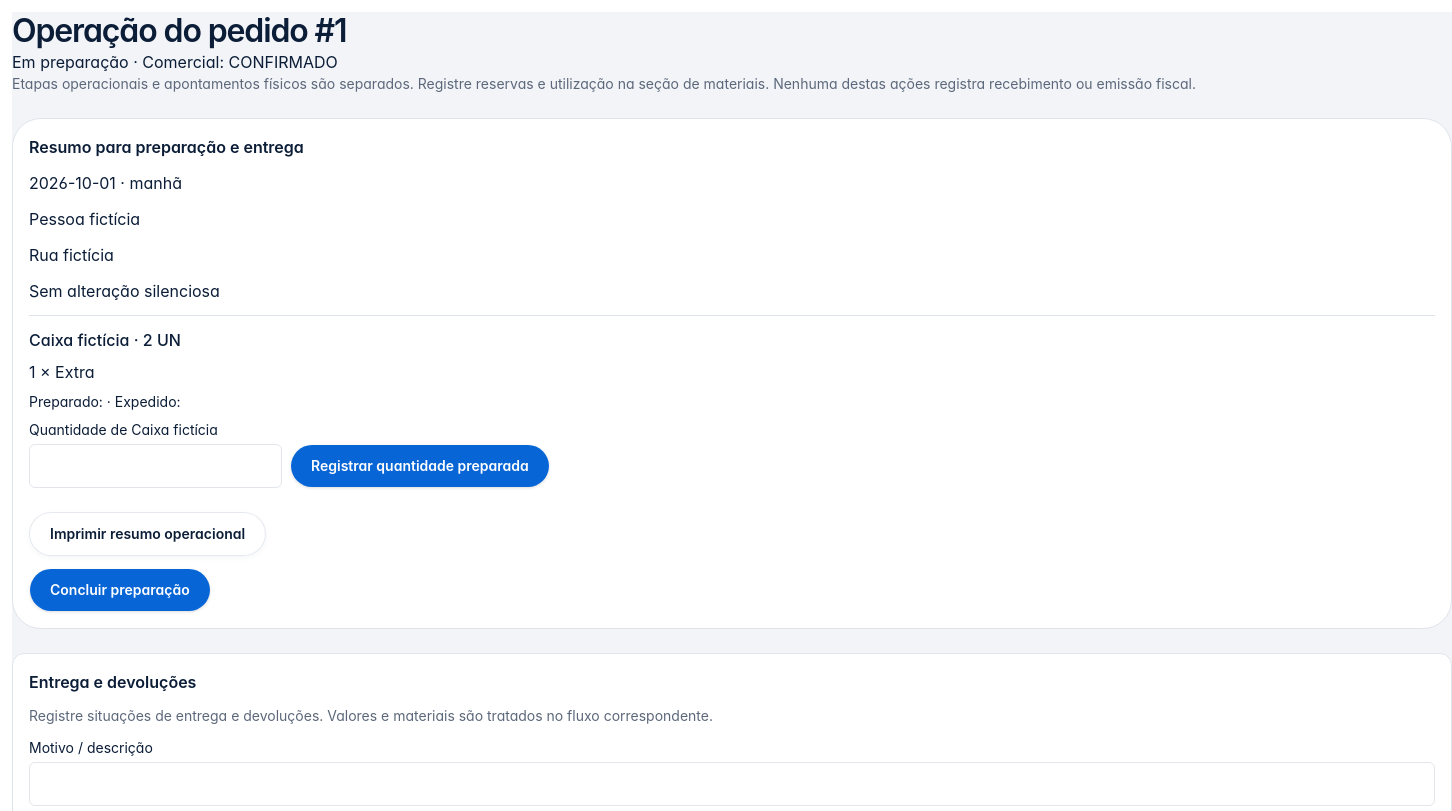
preserva quantidade digitada quando o servidor recusa e mantém controles inacessíveis sem permissão
In the field labelled "Quantidade de Caixa fictícia": (156, 466) [29,444,282,488], type "3"
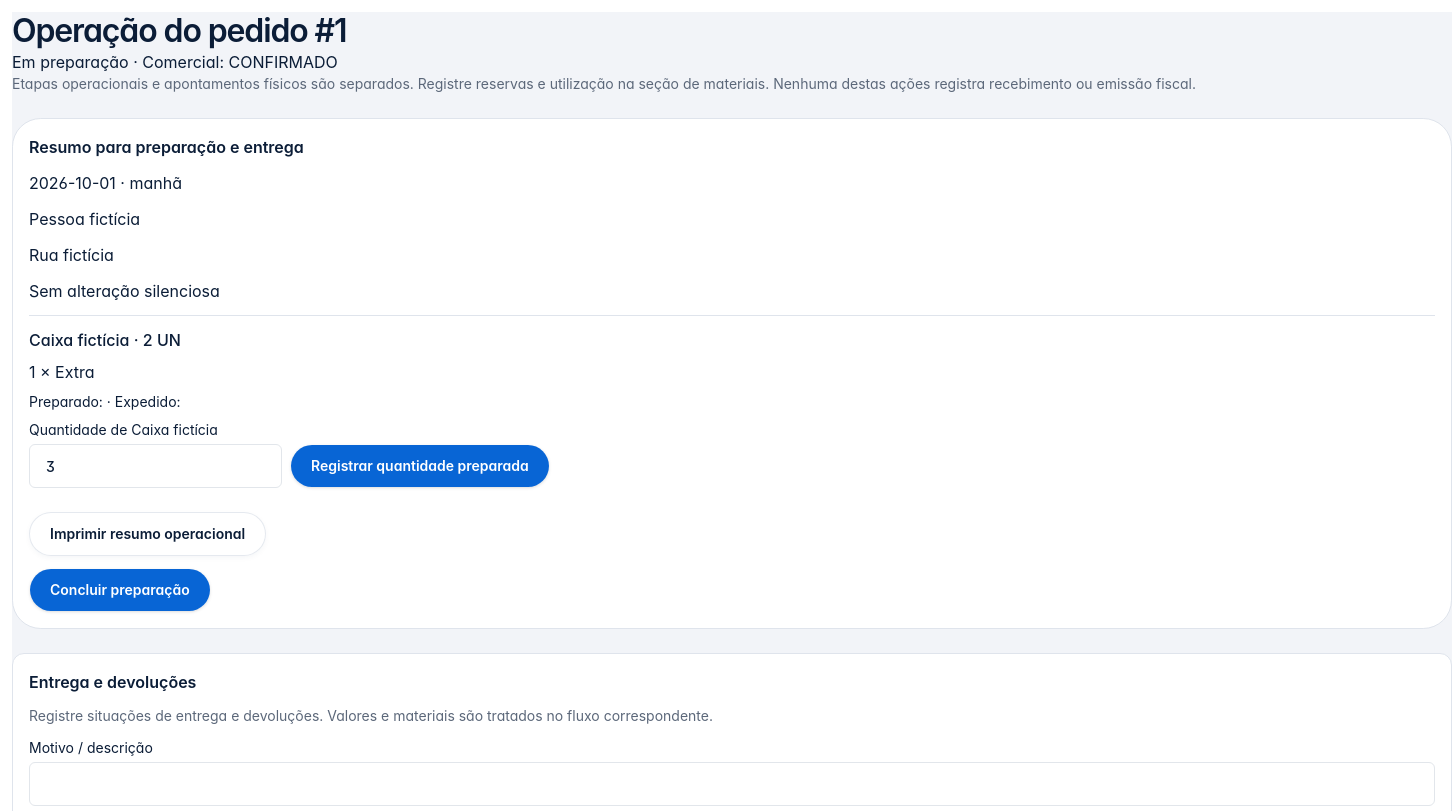
Click the button "Registrar quantidade preparada": click(420, 466) [290,444,550,488]
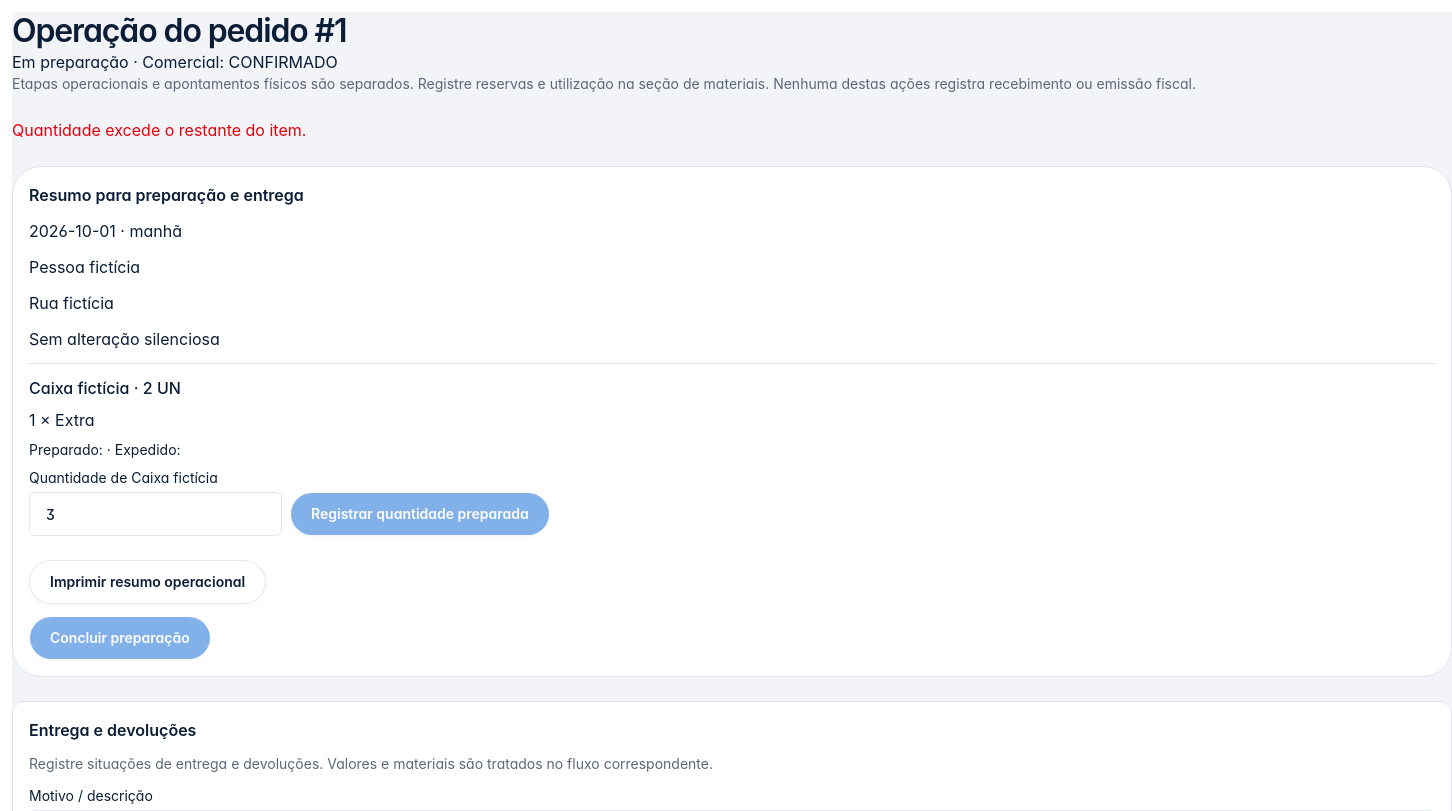
Result: the message shows "excede" at [12,120,306,140]
